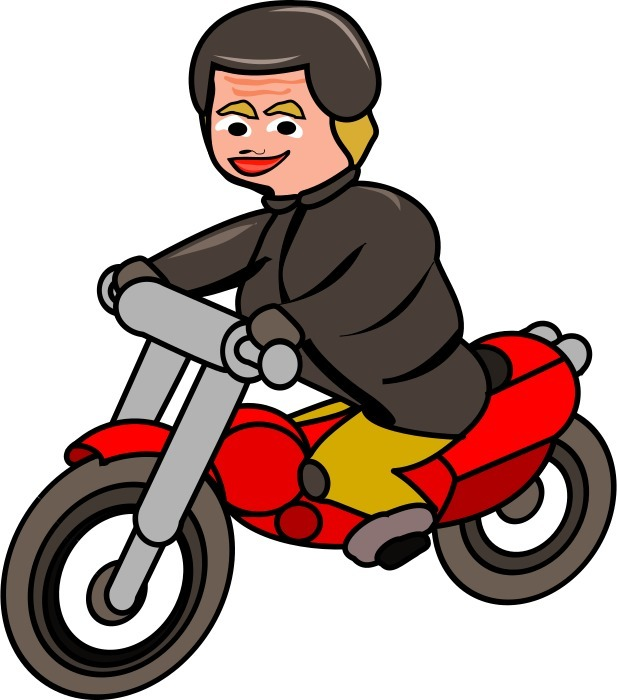motorbike: (7, 324, 612, 690)
person: (84, 3, 487, 569)
